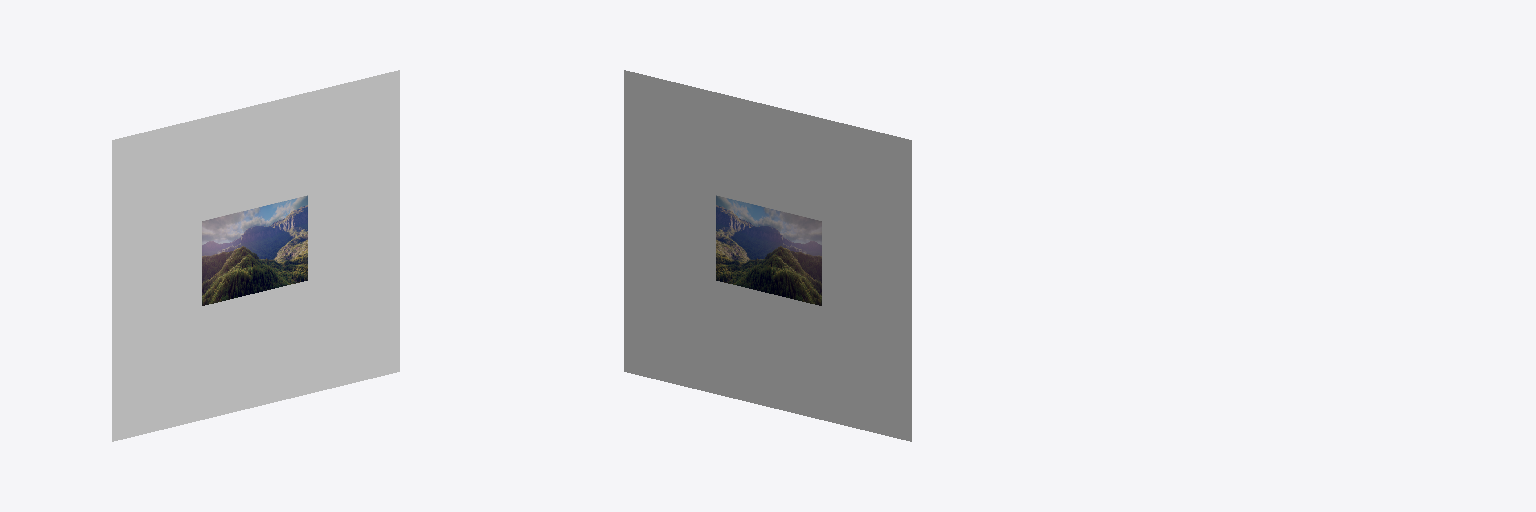
The picture shows the model from 3 angles: view 1: azimuth 30°, elevation 25°; view 2: azimuth 150°, elevation 25°; view 3: azimuth 270°, elevation 25°; orthographic projection.
Visible parts, largest first — view 1: plane; view 2: plane; view 3: none.
Part boxes in pixels (bbox=[...]): plane: bbox=[112, 70, 399, 441]; plane: bbox=[624, 70, 911, 441].
Bounding box in the file's own units: 0.3 × 0.3 × 0.
1 materials, 1 textured.